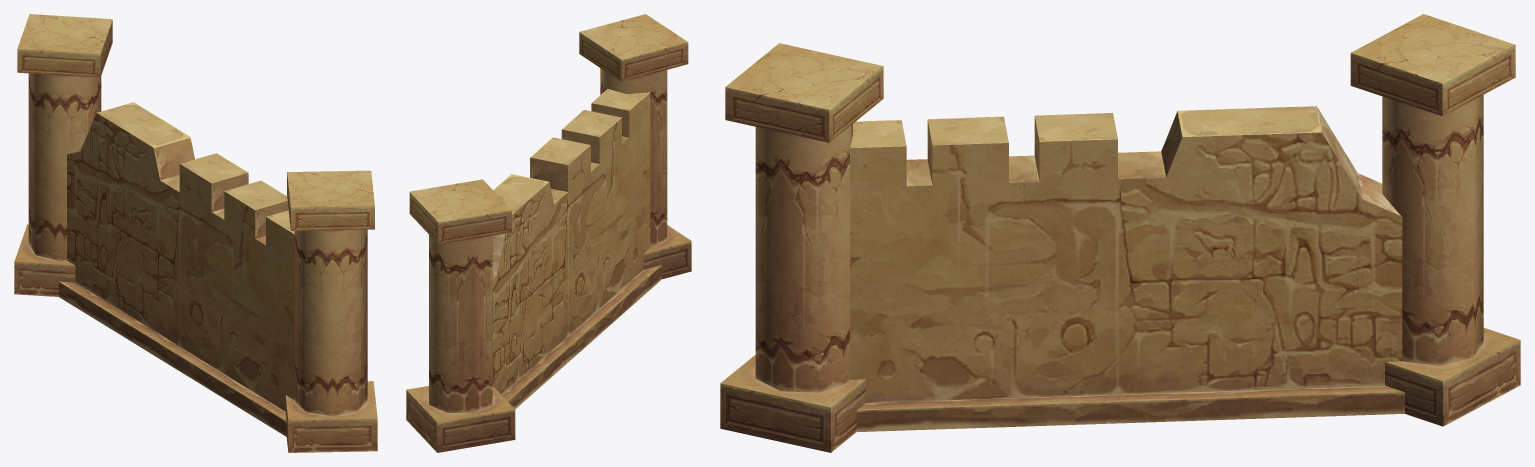
The model's file is Area_06_27.fbx.
3 renders of one model, left to right at view 1: azimuth 30°, elevation 25°; view 2: azimuth 150°, elevation 25°; view 3: azimuth 270°, elevation 25°, orthographic. The views are drawn at different scales.
Visible parts, largest first — view 1: Area_06_27; view 2: Area_06_27; view 3: Area_06_27.
Part boxes in pixels (box(x1,y1,x2,y2)): Area_06_27: box(14, 14, 377, 452); Area_06_27: box(406, 14, 691, 452); Area_06_27: box(720, 14, 1520, 452).
Size of the model in its own units: 259 by 409 by 872.
